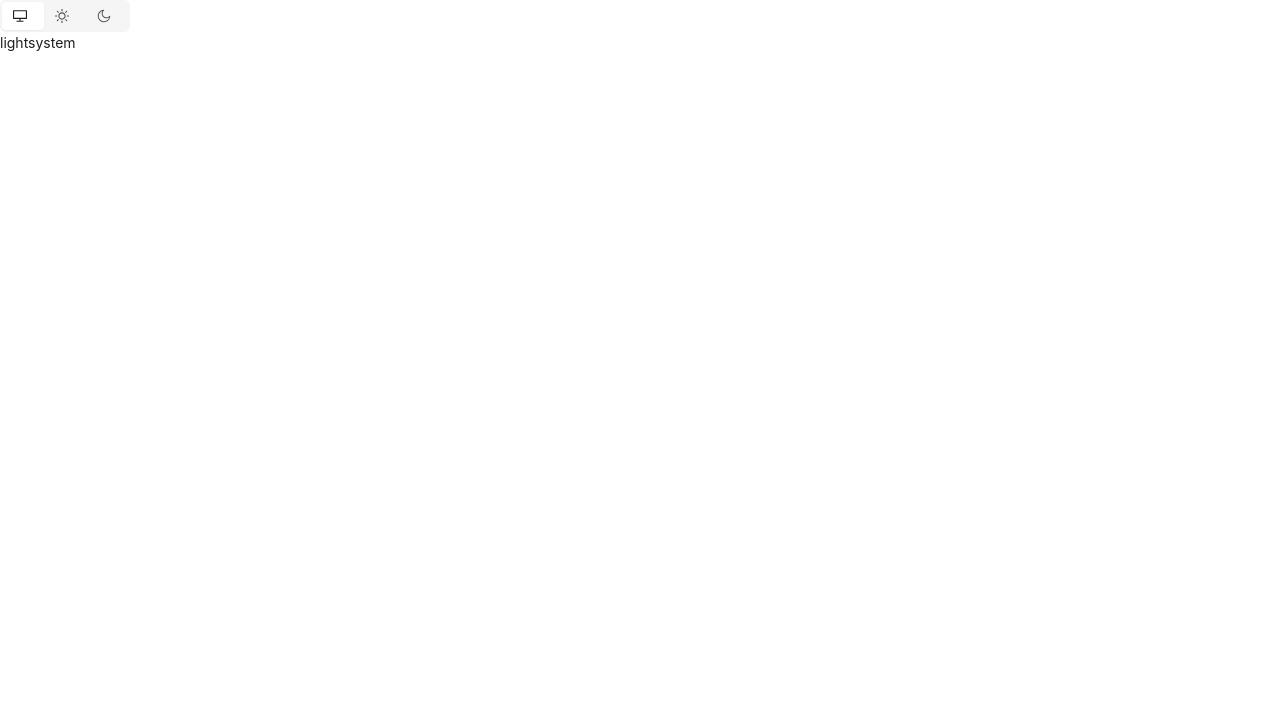
Test: Farbschema › ignoriert Systemaenderungen bei fester Auswahl
Step 1. Click the radio button named "Hell" → (65, 16), box [44,2,86,30]
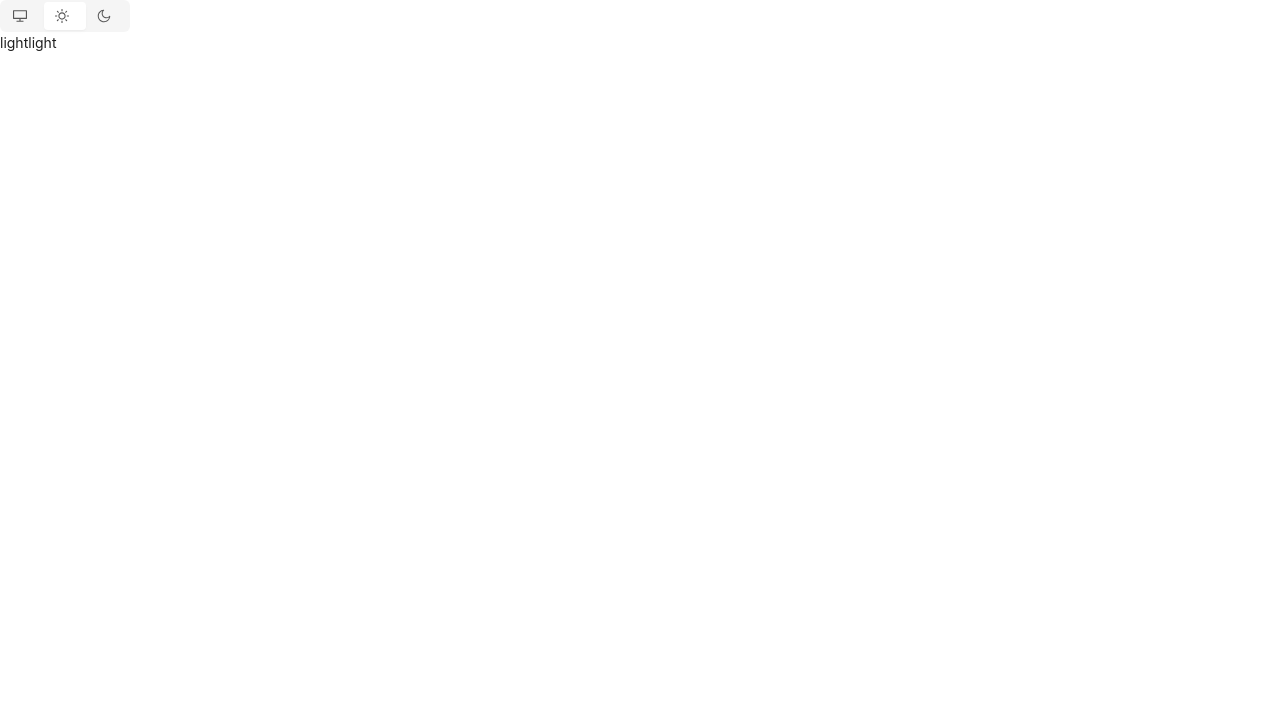
Expected: the text with test id "mode" reads "light", [0,34,28,51]
Note: Zurueck auf System: die zwischenzeitliche Systemaenderung greift sofort.
Step 2. Click the radio button named "System" → (23, 16), box [2,2,44,30]
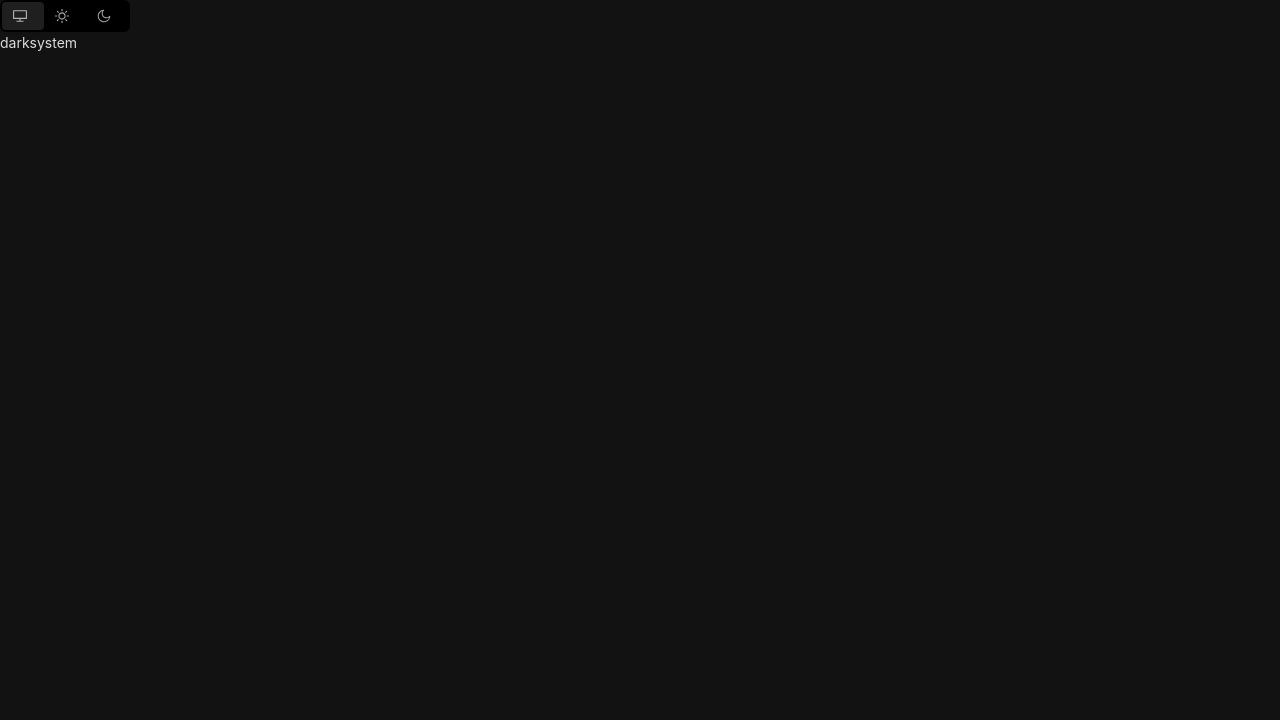
Expected: the text with test id "mode" reads "dark", [0,34,30,51]
